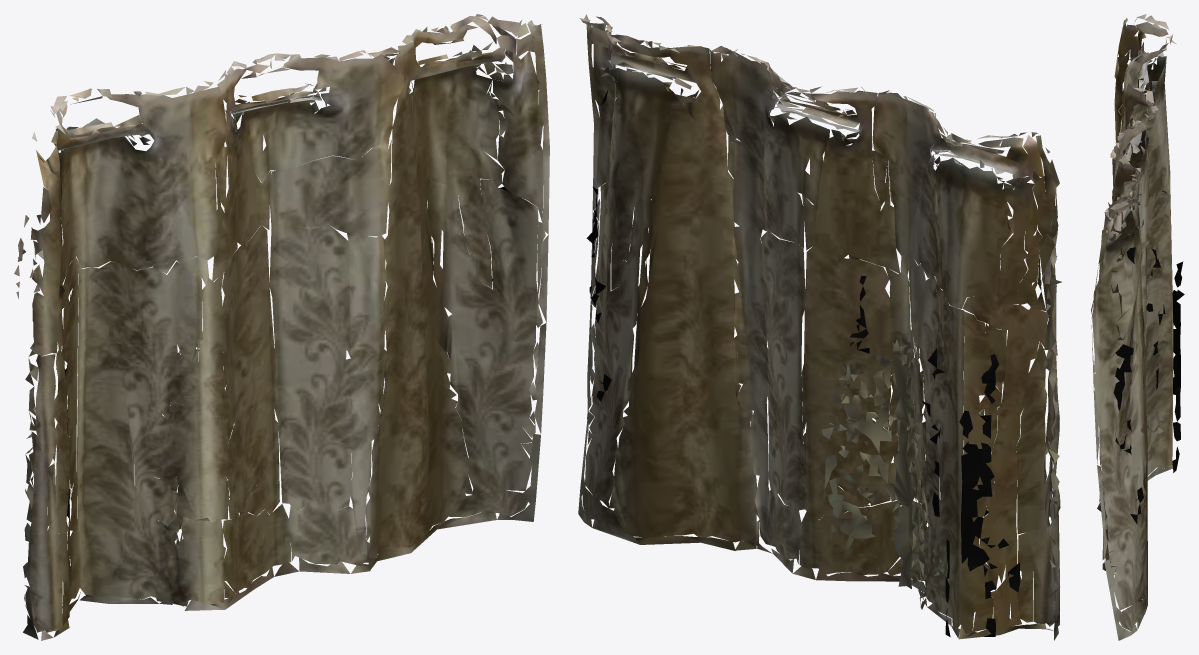
The model's file is cortina_floral.glb.
3 views of the same model, side by side, from view 1: azimuth 30°, elevation 25°; view 2: azimuth 150°, elevation 25°; view 3: azimuth 270°, elevation 25° (orthographic). The views are drawn at different scales.
Parts seen in each view (by area): view 1: Object_2; view 2: Object_2; view 3: Object_2.
Part boxes in pixels (bbox=[...]): Object_2: bbox=[14, 14, 549, 640]; Object_2: bbox=[578, 14, 1061, 640]; Object_2: bbox=[1091, 14, 1184, 640].
Bounding box in the file's own units: 2.92 × 2.86 × 0.556.
1 material, 1 textured.
